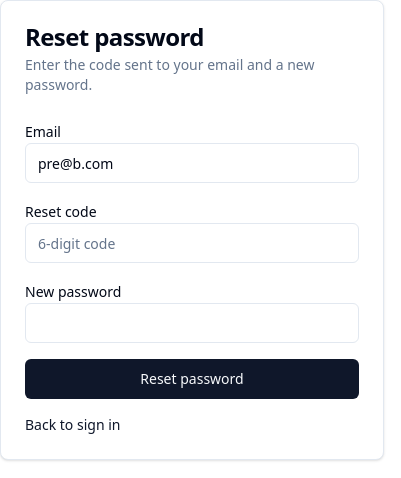
Test: auth-ui › Reset-password screen › disables the submit button while pending
The image size is (401, 478).
Step 1. Type "123456" into the field labelled "Reset code" → (192, 243), box [25, 223, 359, 263]
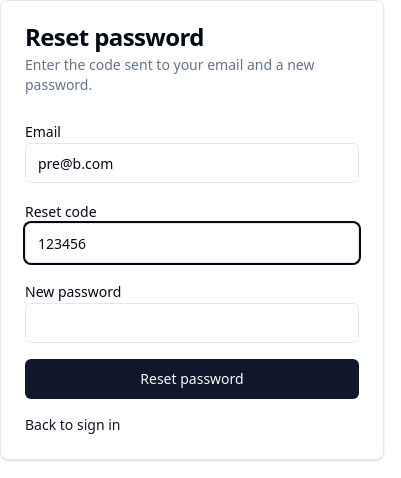
Step 2. Type "Passw0rd" into the password field labelled "New password" → (192, 323), box [25, 303, 359, 343]
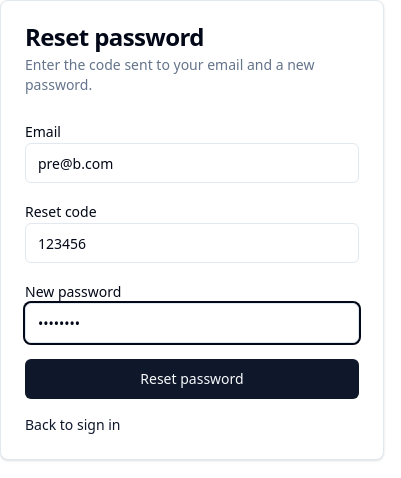
Step 3. Click the button "Reset password" → click(192, 379), box [25, 359, 359, 399]
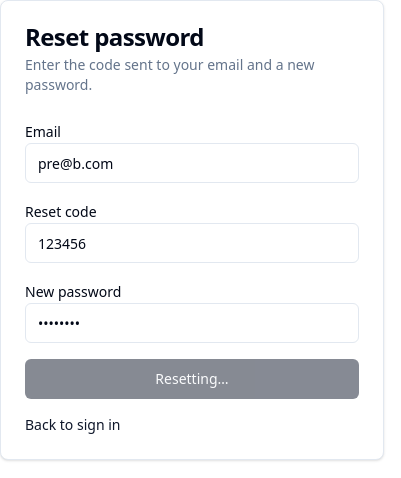
Expected: the button "Resetting…" is disabled, [25, 359, 359, 399]
